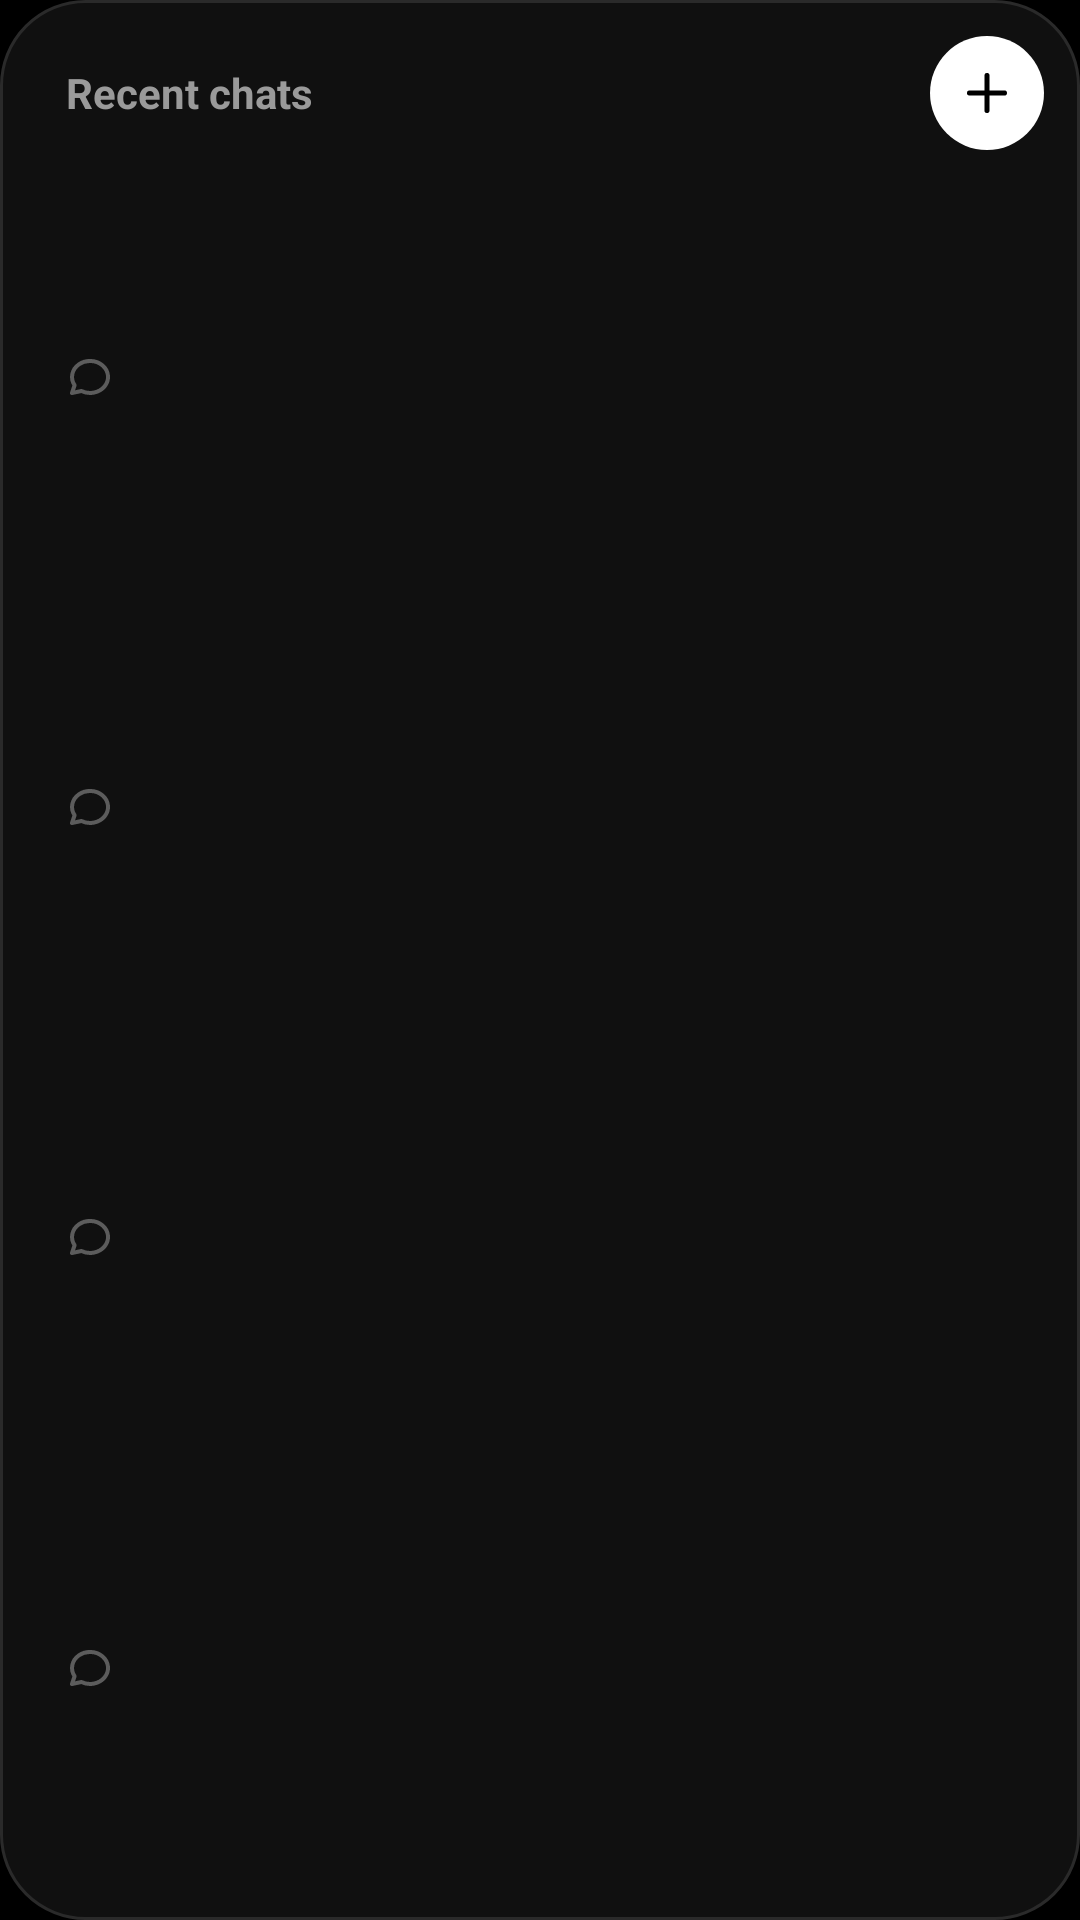

Screen size 1080×1920. Icon name, then its center in pixels as (x=x, y=y):
message circle: (x=90, y=377), (x=90, y=807), (x=90, y=1237), (x=90, y=1668)
plus: (x=987, y=93)
